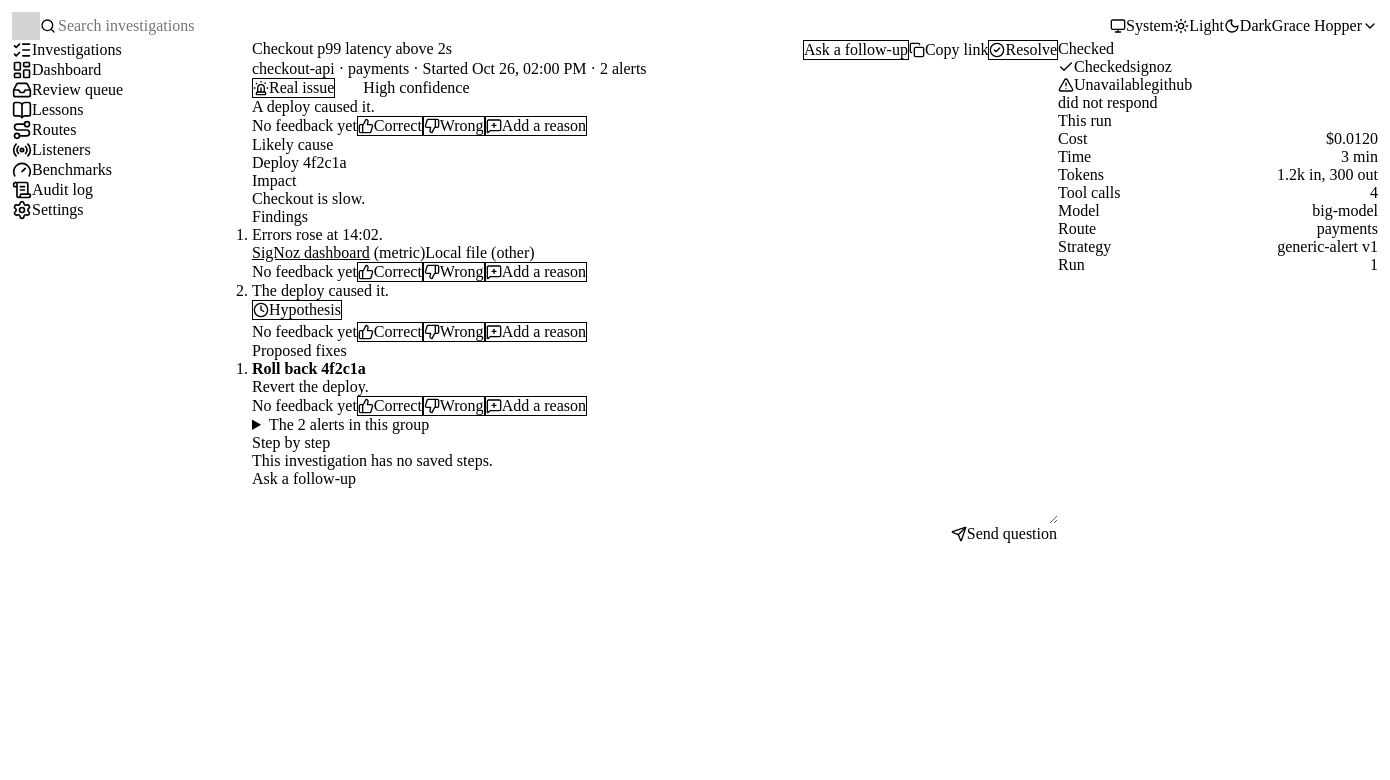
Test case: feedback on the parts of an investigation › opens a form on Wrong, sends the reason, and puts the focus back on the button
Click the button with aria-label "Mark finding f2 wrong" at (454, 332), box [423,322,485,342]
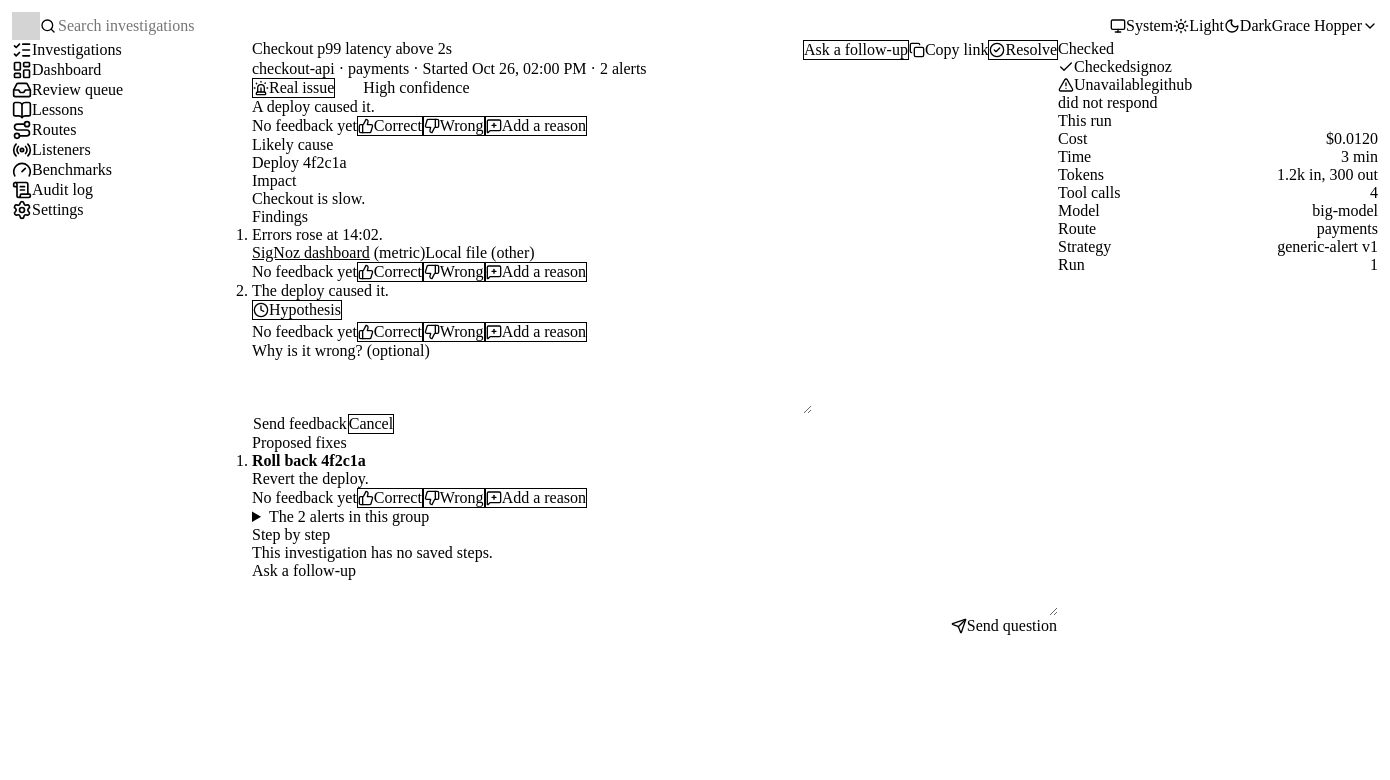
Type "  There was no deploy.  " into the text box labelled "Why is it wrong? (optional)" at (532, 387), box [252,360,812,414]
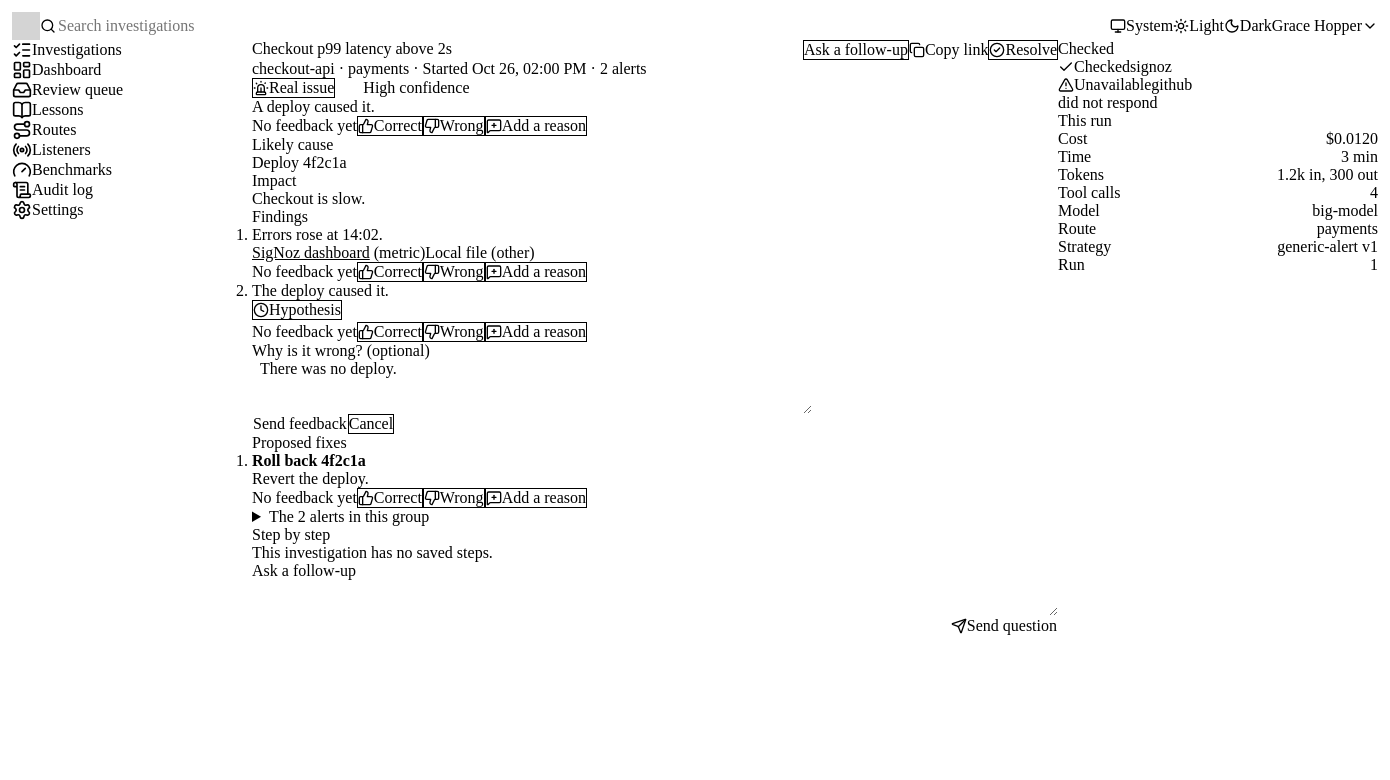
Click the button "Send feedback" at (300, 424), box [252,414,348,434]
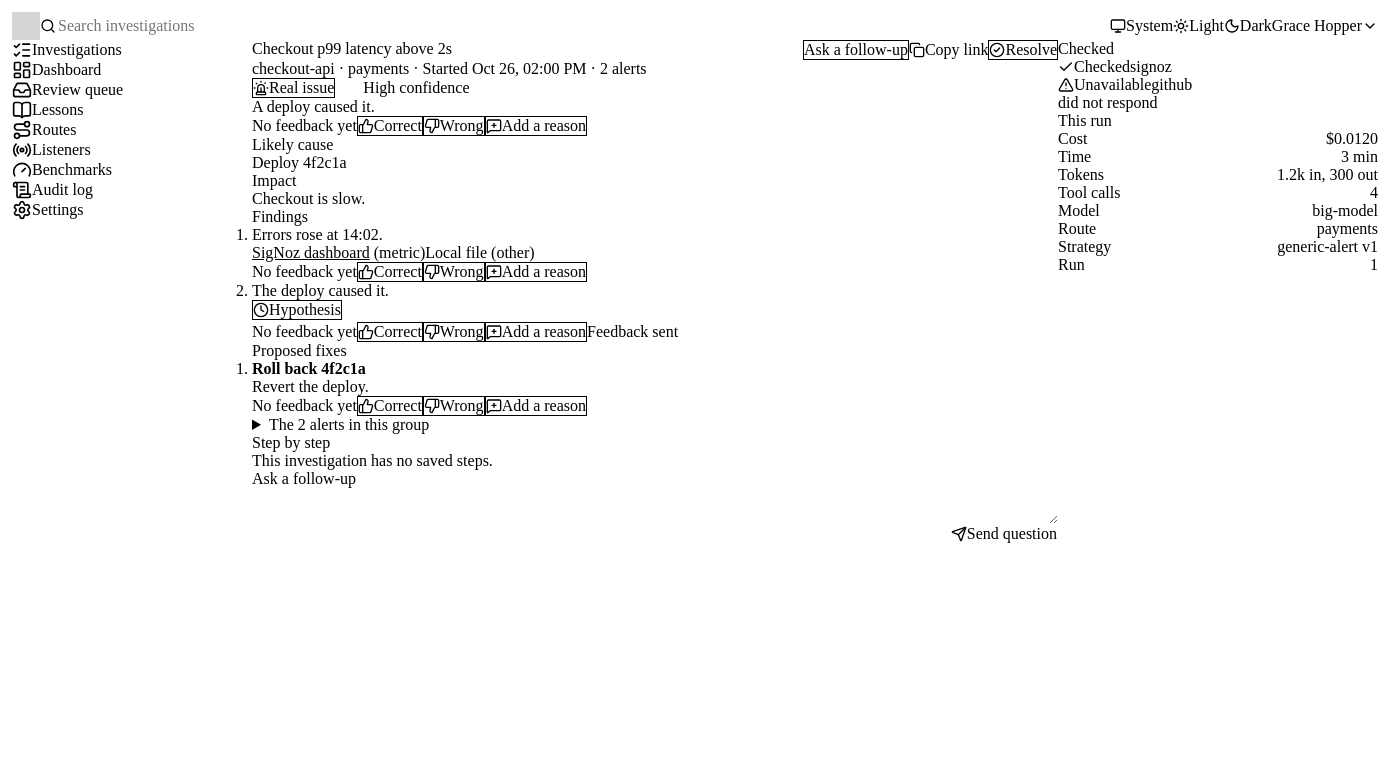
Expected: the text "Feedback sent" is shown, [587,323,678,341]
